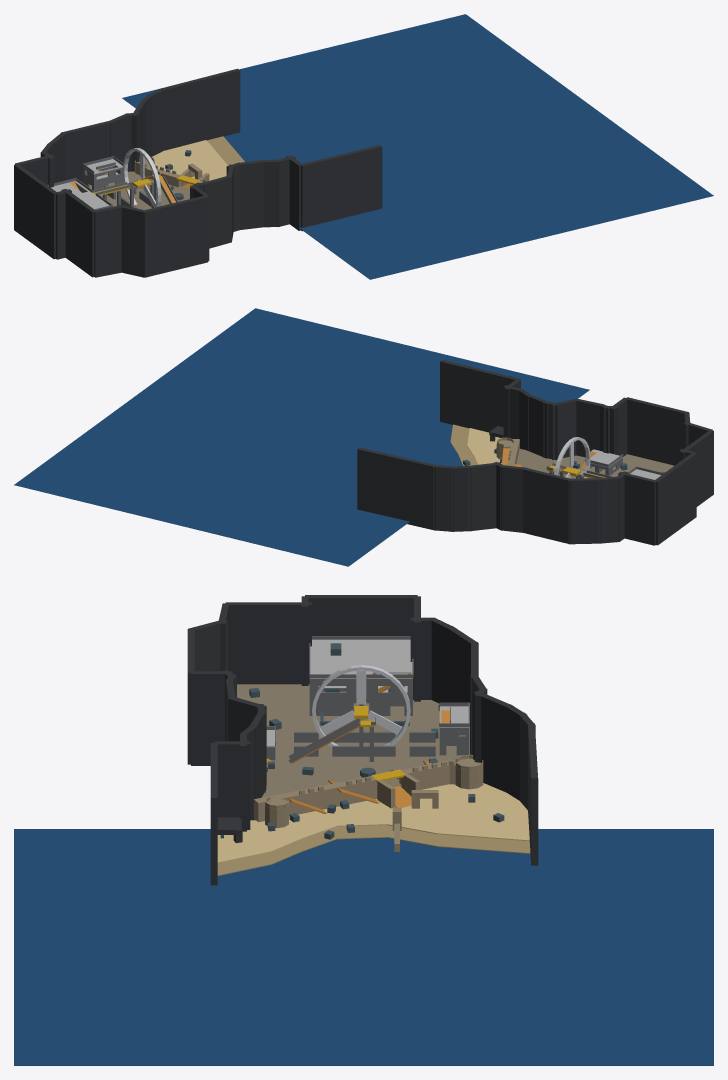
Rendered from zanzibar_greybox.glb.
3 renders of one model, top to bottom at view 1: azimuth 30°, elevation 25°; view 2: azimuth 150°, elevation 25°; view 3: azimuth 270°, elevation 25°, orthographic. The views are drawn at different scales.
Visible parts, largest first — view 1: Zanzibar_Sea_vis, Zanzibar_Oob_col-col, Zanzibar_Wall_col-col, Zanzibar_Sand_col-col, Zanzibar_Floor_col-col, Zanzibar_Wheel_vis, Zanzibar_Seawall_col-col, Zanzibar_Ground_col-col, Zanzibar_Surf_col-col; view 2: Zanzibar_Sea_vis, Zanzibar_Oob_col-col, Zanzibar_Ground_col-col, Zanzibar_Sand_col-col, Zanzibar_Wall_col-col, Zanzibar_Surf_col-col, Zanzibar_Wheel_vis, Zanzibar_Floor_col-col, Zanzibar_Seawall_col-col; view 3: Zanzibar_Sea_vis, Zanzibar_Oob_col-col, Zanzibar_Sand_col-col, Zanzibar_Ground_col-col, Zanzibar_Wall_col-col, Zanzibar_Seawall_col-col, Zanzibar_Floor_col-col, Zanzibar_Surf_col-col, Zanzibar_Wheel_vis, Zanzibar_Cover_col-col, Zanzibar_Ramp_col-col.
Part boxes in pixels (x1,y1,x2,y2): Zanzibar_Sea_vis: [122, 14, 713, 279]; Zanzibar_Oob_col-col: [14, 68, 382, 277]; Zanzibar_Wall_col-col: [47, 156, 177, 209]; Zanzibar_Sand_col-col: [152, 140, 227, 180]; Zanzibar_Floor_col-col: [51, 159, 123, 209]; Zanzibar_Wheel_vis: [123, 148, 161, 207]; Zanzibar_Seawall_col-col: [134, 156, 233, 187]; Zanzibar_Ground_col-col: [89, 171, 189, 210]; Zanzibar_Surf_col-col: [207, 136, 244, 165]; Zanzibar_Sea_vis: [14, 308, 589, 566]; Zanzibar_Oob_col-col: [357, 360, 713, 545]; Zanzibar_Ground_col-col: [516, 449, 673, 478]; Zanzibar_Sand_col-col: [467, 428, 501, 464]; Zanzibar_Wall_col-col: [546, 454, 663, 478]; Zanzibar_Surf_col-col: [450, 424, 477, 465]; Zanzibar_Wheel_vis: [554, 437, 590, 478]; Zanzibar_Floor_col-col: [590, 449, 661, 479]; Zanzibar_Seawall_col-col: [496, 437, 519, 466]; Zanzibar_Sea_vis: [14, 829, 713, 1065]; Zanzibar_Oob_col-col: [187, 595, 538, 885]; Zanzibar_Sand_col-col: [217, 783, 529, 863]; Zanzibar_Ground_col-col: [237, 684, 470, 797]; Zanzibar_Wall_col-col: [266, 636, 469, 762]; Zanzibar_Seawall_col-col: [254, 754, 483, 851]; Zanzibar_Floor_col-col: [266, 639, 469, 747]; Zanzibar_Surf_col-col: [217, 825, 530, 875]; Zanzibar_Wheel_vis: [312, 665, 410, 747]; Zanzibar_Cover_col-col: [220, 643, 504, 839]; Zanzibar_Ramp_col-col: [266, 673, 449, 813].
Bounding box in the file's own units: 259 × 30.09 × 200.
